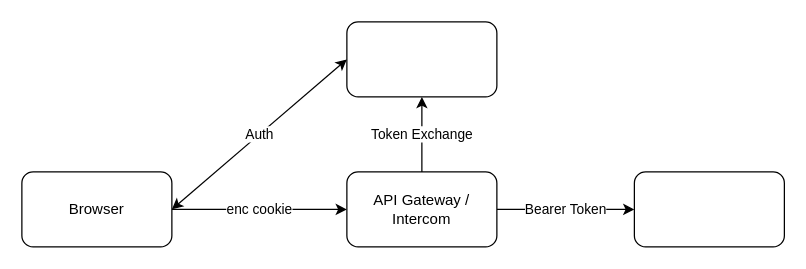
The diagram is 806 pixels wide and 269 high, and some of its shapes have lost their labels. Here are the shapes that lost their labels. From the top down, the box of each, then its label:
(346, 21, 497, 97): Keycloak
(633, 171, 784, 247): oxfake
